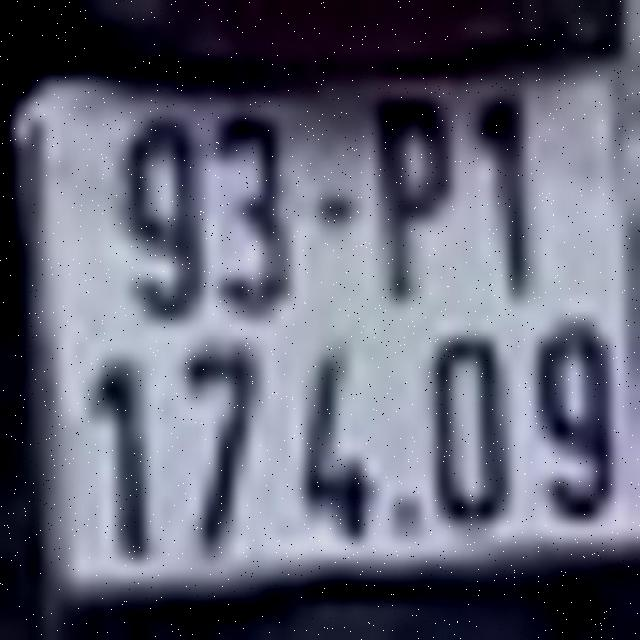0: (428, 328, 514, 528)
1: (88, 357, 158, 561), (471, 90, 538, 301)
3: (212, 108, 297, 321)
4: (297, 340, 378, 546)
7: (180, 342, 262, 559)
9: (117, 110, 207, 322), (533, 315, 617, 524)
P: (368, 88, 456, 306)
